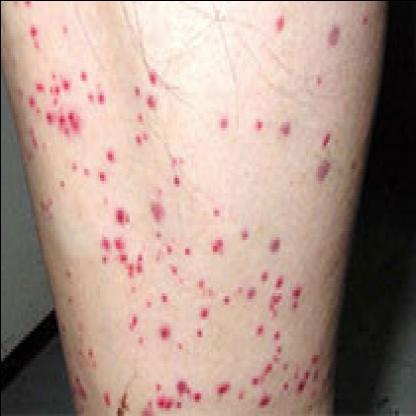Bed Bug: (238, 319, 294, 407), (130, 63, 165, 144), (12, 62, 76, 106), (142, 372, 209, 414), (95, 228, 147, 278), (295, 340, 341, 392), (60, 256, 80, 336), (260, 262, 288, 315), (81, 56, 109, 103), (224, 272, 258, 310), (46, 107, 86, 138), (152, 238, 180, 274), (22, 118, 42, 168), (154, 318, 186, 348), (122, 310, 148, 346), (194, 298, 214, 342), (168, 145, 188, 188), (268, 1, 294, 33), (107, 198, 139, 222), (79, 334, 103, 366), (69, 372, 93, 404), (309, 153, 337, 180), (150, 186, 166, 233), (190, 269, 218, 295), (142, 283, 172, 307), (27, 12, 46, 48), (60, 153, 82, 183), (238, 215, 258, 245), (325, 15, 343, 47), (291, 274, 307, 310), (216, 372, 234, 402), (275, 112, 297, 136), (266, 227, 288, 251), (54, 15, 74, 41), (42, 182, 56, 218), (356, 3, 375, 29), (317, 124, 337, 148), (210, 230, 228, 254), (218, 106, 232, 132), (254, 109, 268, 133), (101, 380, 115, 404), (346, 151, 362, 171), (208, 195, 224, 215), (309, 68, 331, 82), (95, 162, 111, 180), (105, 139, 119, 159), (6, 1, 40, 9), (182, 236, 196, 254), (83, 159, 95, 177)
